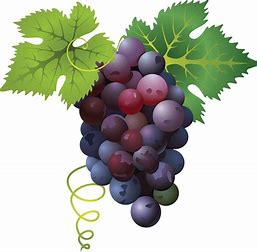grape: (100, 72, 195, 226)
